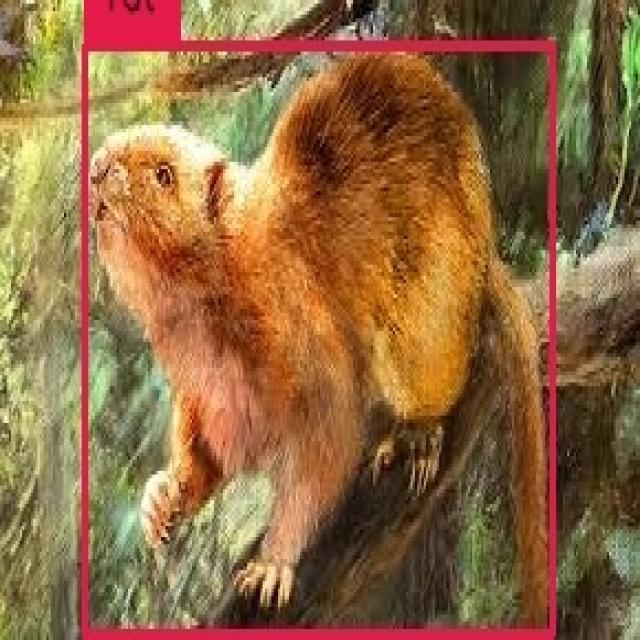rat: (85, 44, 553, 636)
